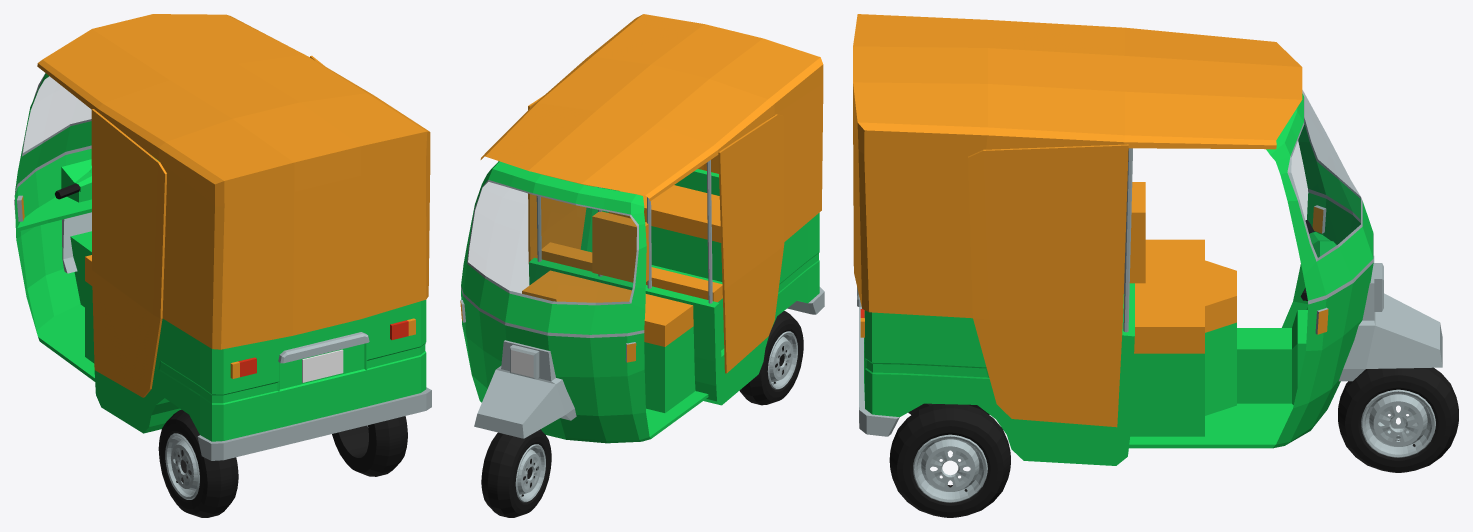
The model's file is tuk-tuk.glb.
The picture shows the model from 3 angles, left to right: view 1: azimuth 30°, elevation 25°; view 2: azimuth 150°, elevation 25°; view 3: azimuth 270°, elevation 25°; orthographic projection. The views are drawn at different scales.
Visible parts, largest first — view 1: body, wheel-rear-left, wheel-rear-right; view 2: body, wheel-front, wheel-rear-left; view 3: body, wheel-rear-right, wheel-front.
Boxes of the visible parts, box(x1,y1,x2,y2) form: body: box(14, 14, 431, 460); wheel-rear-left: box(158, 409, 238, 517); wheel-rear-right: box(332, 416, 407, 476); body: box(460, 14, 824, 443); wheel-front: box(481, 429, 551, 517); wheel-rear-left: box(739, 311, 803, 405); body: box(853, 14, 1442, 465); wheel-rear-right: box(889, 404, 1010, 517); wheel-front: box(1338, 367, 1458, 472).
Bounding box in the file's own units: 1.27 × 1.99 × 2.7.
